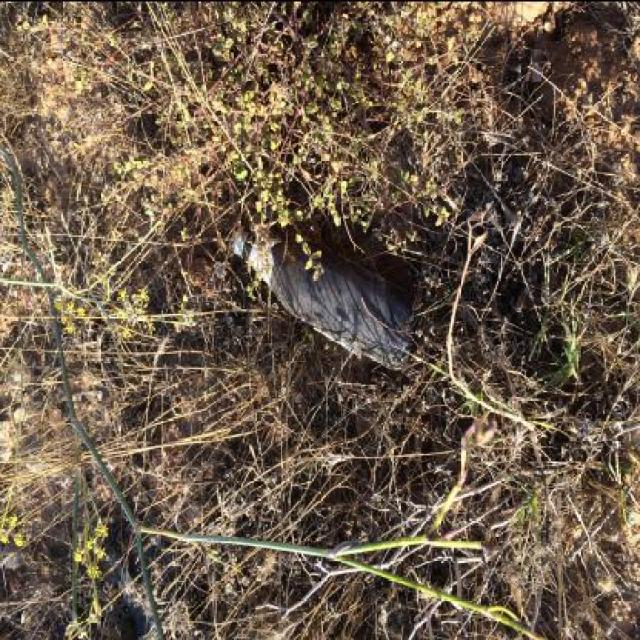glass: (232, 228, 414, 369)
